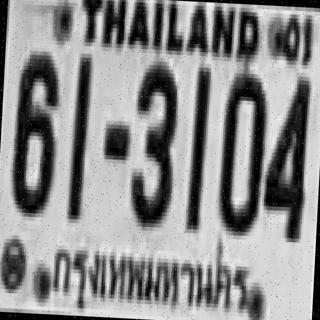N00: (216, 69, 267, 233)
N01: (65, 55, 91, 218), (186, 65, 210, 228)
N03: (128, 60, 177, 224)
N04: (260, 73, 309, 237)
N06: (9, 48, 60, 212)
P04: (44, 234, 255, 320)
